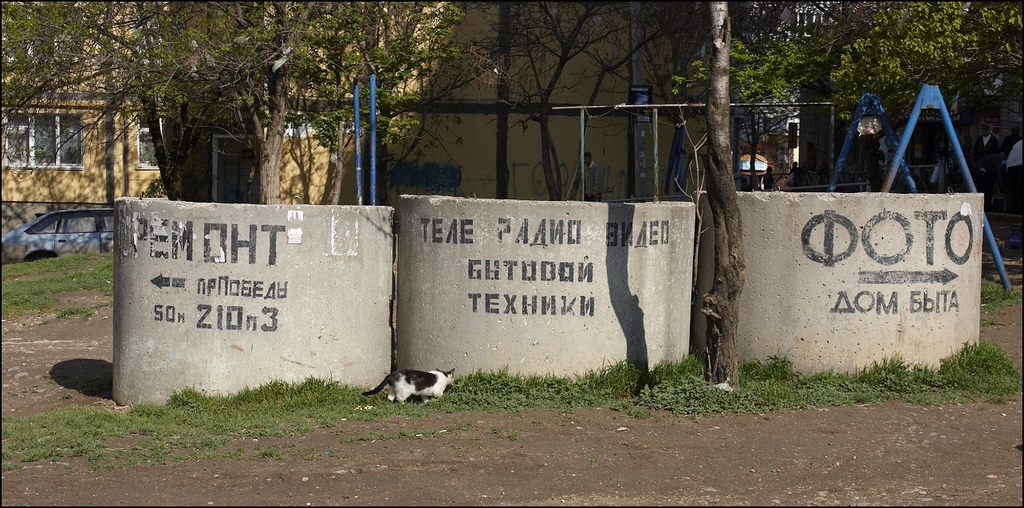Tree: (0, 0, 496, 210), (680, 0, 1023, 123), (488, 0, 662, 200), (698, 2, 750, 390), (668, 0, 722, 202)
